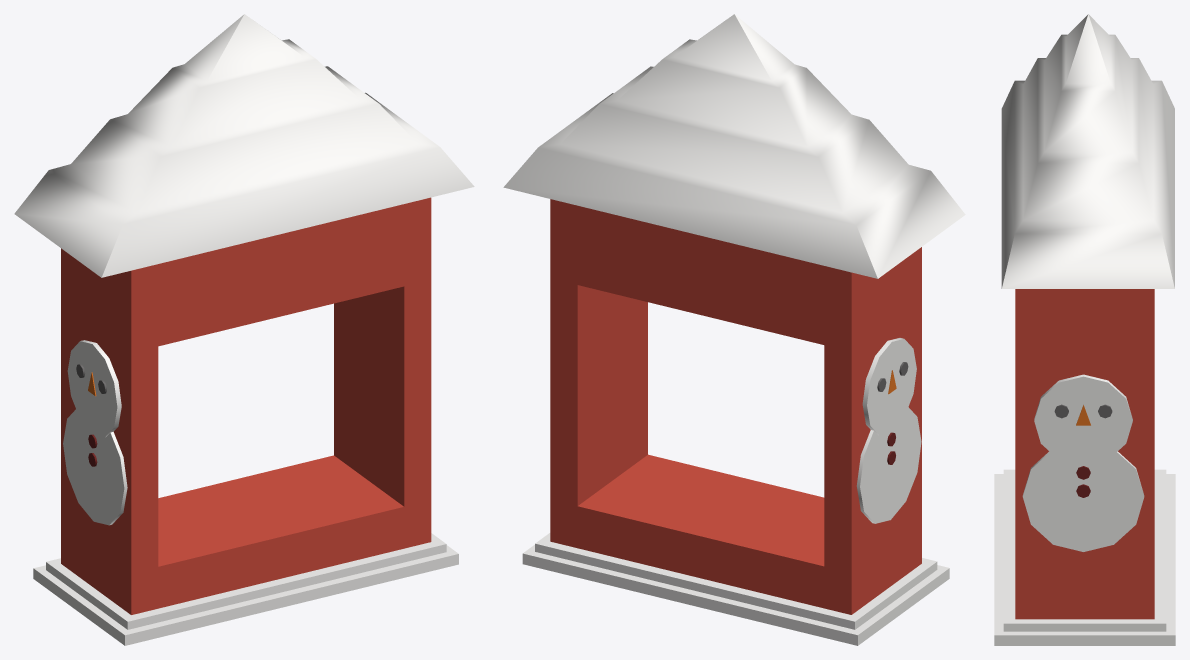
File: Factory_device_2.glb
3 views of the same model, side by side, from view 1: azimuth 30°, elevation 25°; view 2: azimuth 150°, elevation 25°; view 3: azimuth 270°, elevation 25° (orthographic).
Parts seen in each view (by area): view 1: Factory_device_2; view 2: Factory_device_2; view 3: Factory_device_2.
Boxes of the visible parts, x1,y1,x2,y2 form: Factory_device_2: [14, 14, 474, 645]; Factory_device_2: [503, 14, 965, 645]; Factory_device_2: [994, 14, 1175, 645].
Size of the model in its own units: 2.7 by 3.85 by 1.15.
Materials: 1 (1 with a texture image).
